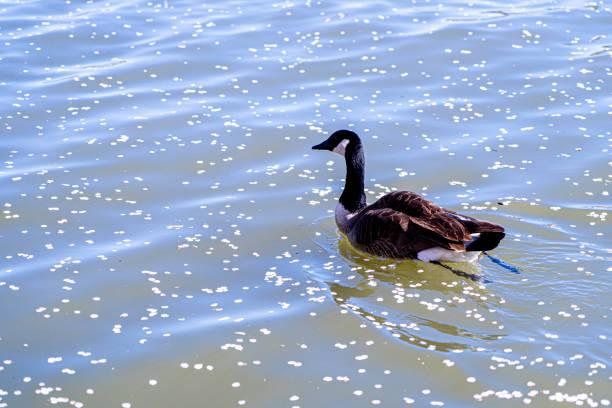Canadian-Goose: (316, 126, 516, 282)
